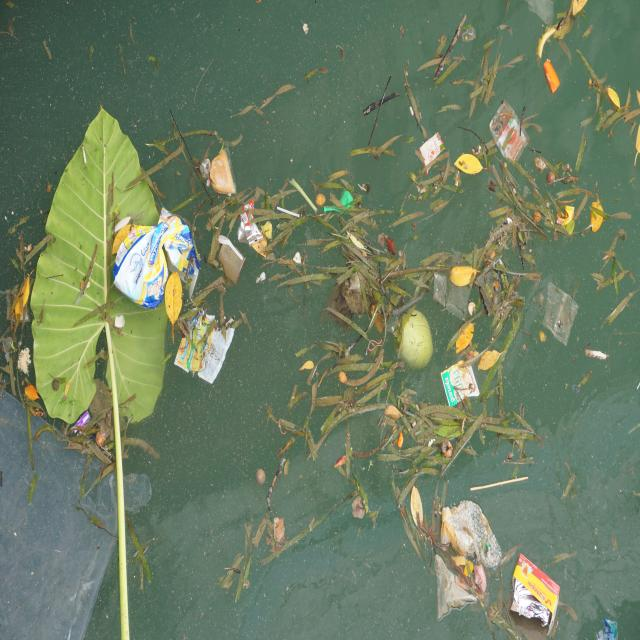Bungkus Makanan: (175, 307, 236, 383), (490, 99, 531, 164), (476, 260, 514, 316), (441, 361, 481, 409), (238, 200, 265, 250), (418, 131, 446, 173)
Bungkus Minuman: (221, 241, 248, 286)
Kantong Plastik: (1, 390, 154, 640), (433, 554, 479, 622), (544, 281, 580, 347)
